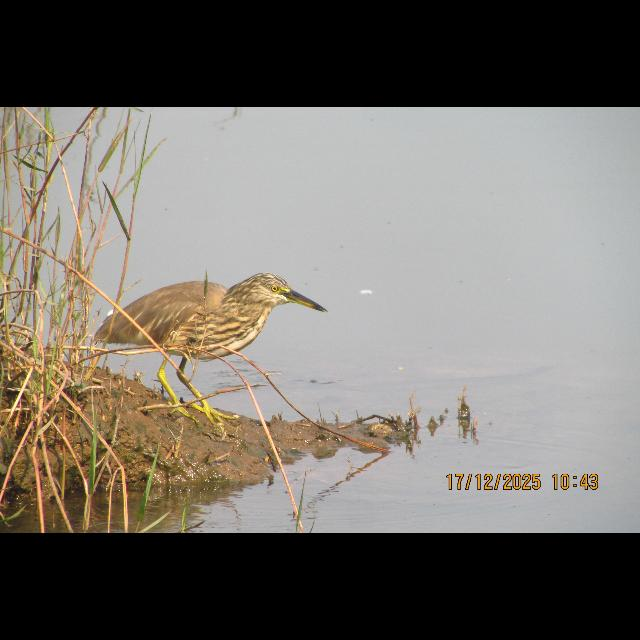heron: (89, 271, 338, 425)
